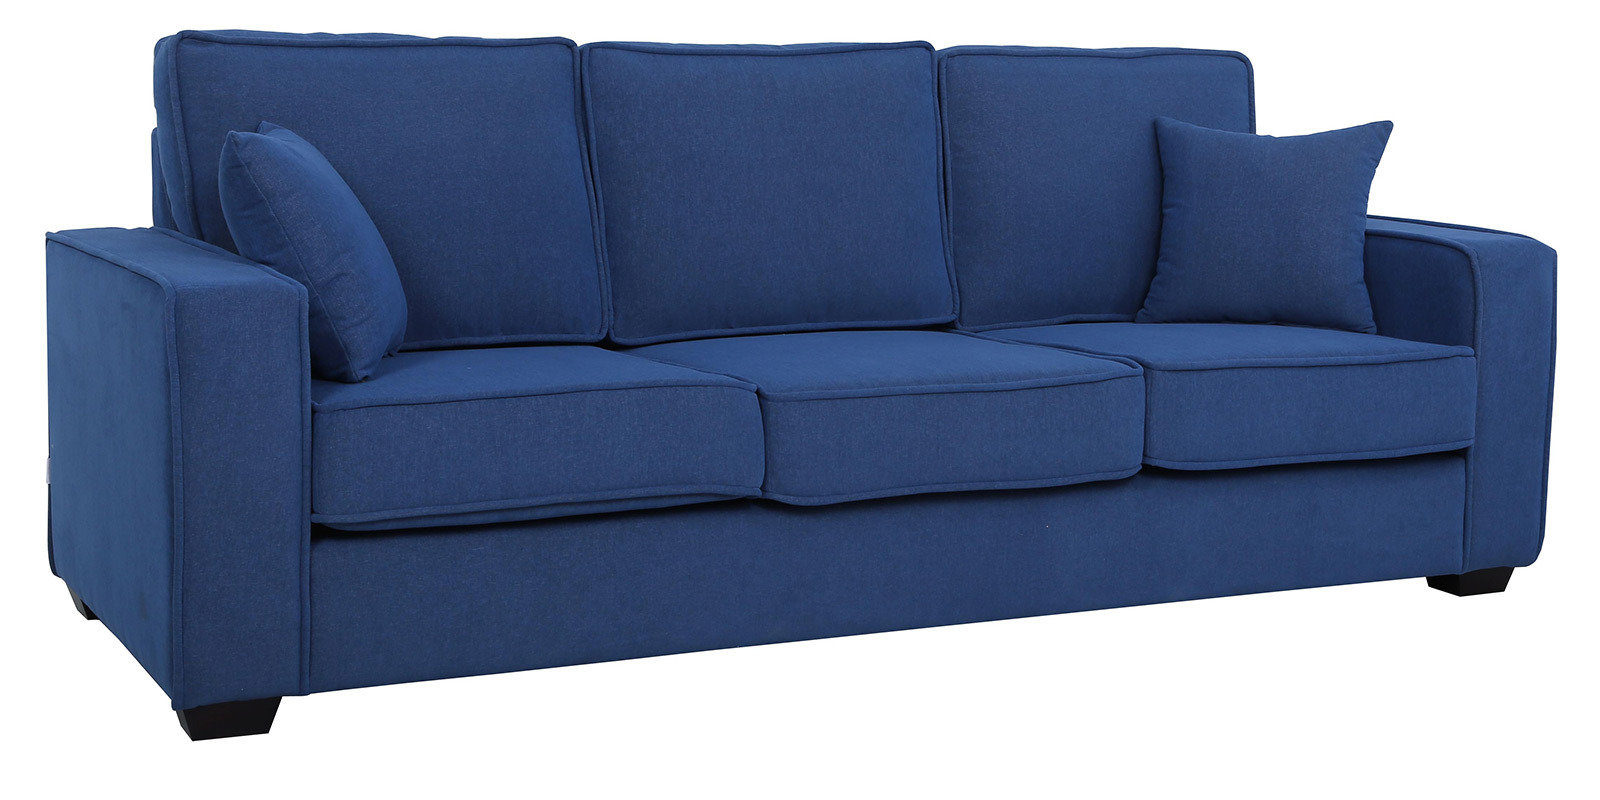Hugo Three Seater Sofa in Denim Blue Colour by CasaCraft: (22, 21, 1560, 747)
